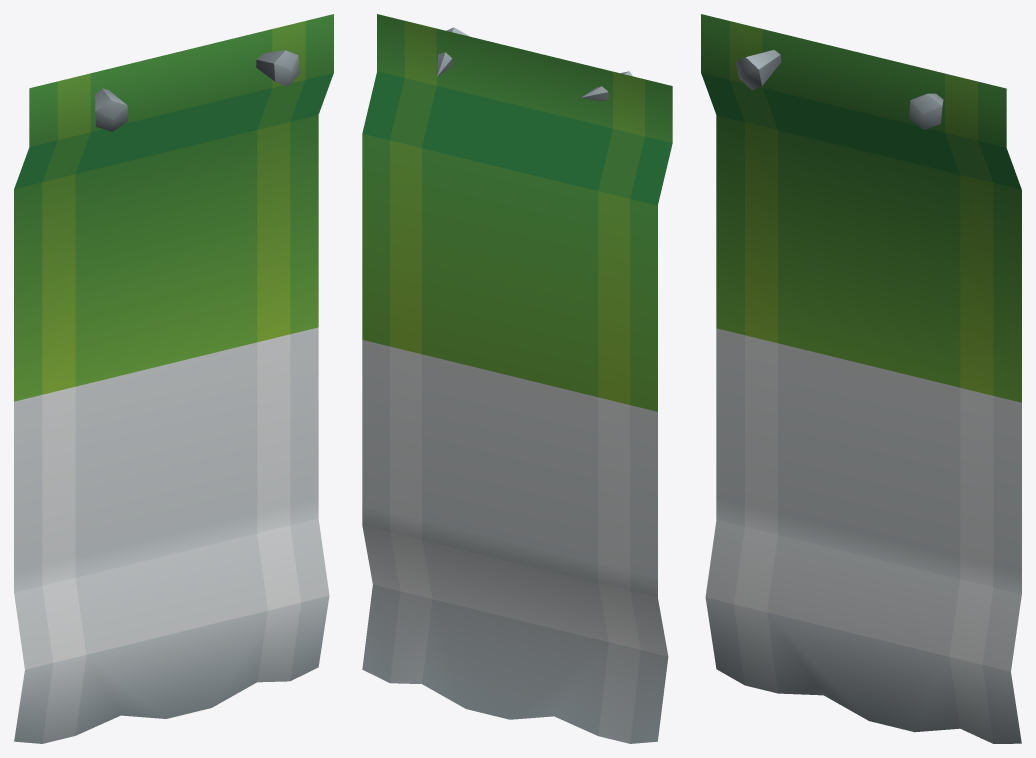
File: banner_patternC_green.gltf
3 views of the same model, side by side, from view 1: azimuth 30°, elevation 25°; view 2: azimuth 150°, elevation 25°; view 3: azimuth 330°, elevation 25° (orthographic). The views are drawn at different scales.
Parts seen in each view (by area): view 1: banner_patternC_green; view 2: banner_patternC_green; view 3: banner_patternC_green.
Part boxes in pixels (left/top/right/bottom): banner_patternC_green: left=14, top=14, right=333, bottom=743; banner_patternC_green: left=362, top=14, right=672, bottom=743; banner_patternC_green: left=701, top=14, right=1021, bottom=743.
Bounding box in the file's own units: 1.5 × 3.2 × 0.3119.
Materials: 1 (1 with a texture image).
